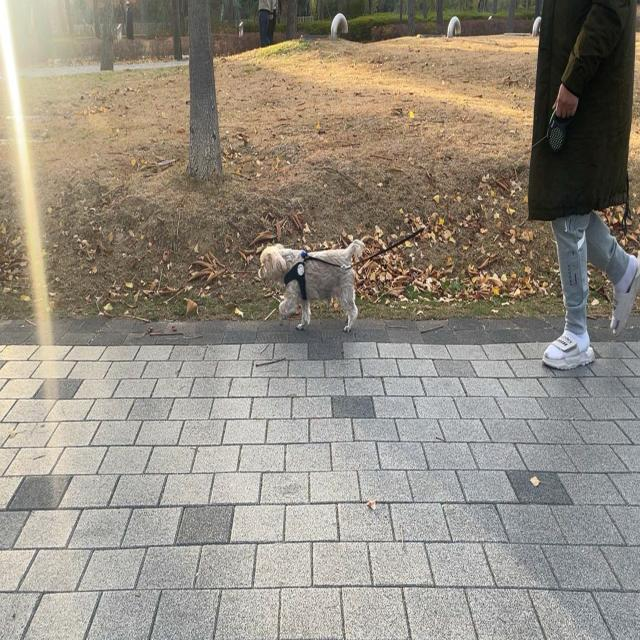Leashed_Dog: (259, 70, 578, 333)
